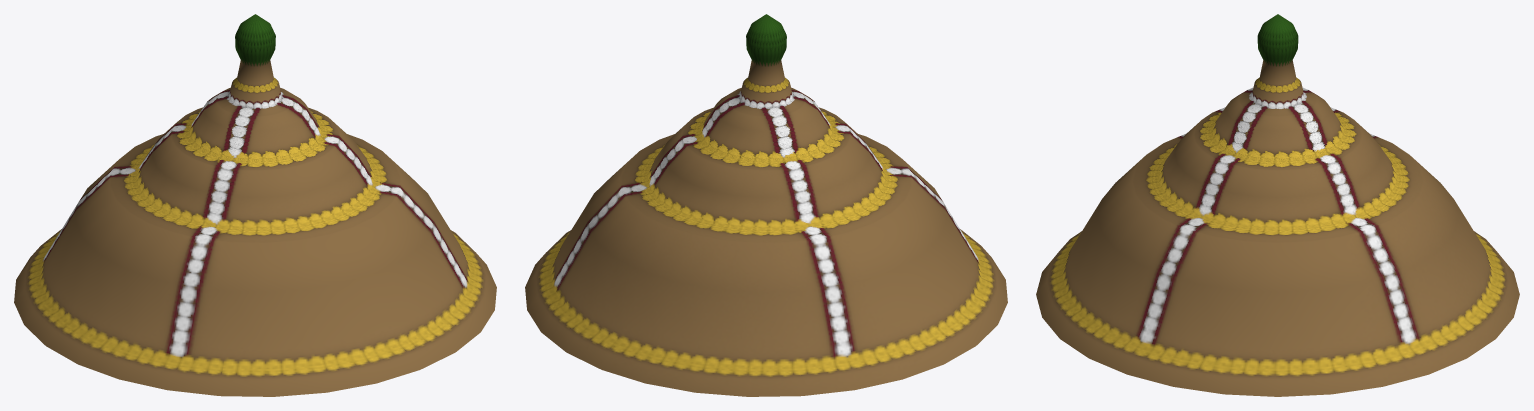
The picture shows the model from 3 angles, left to right: view 1: azimuth 30°, elevation 25°; view 2: azimuth 150°, elevation 25°; view 3: azimuth 270°, elevation 25°; orthographic projection.
Parts seen in each view (by area): view 1: Low; view 2: Low; view 3: Low.
Boxes of the visible parts, bbox=[...] form: Low: bbox=[14, 14, 496, 396]; Low: bbox=[525, 14, 1007, 396]; Low: bbox=[1036, 14, 1519, 396].
Bounding box in the file's own units: 200 × 128 × 200.
1 material, 1 textured.
